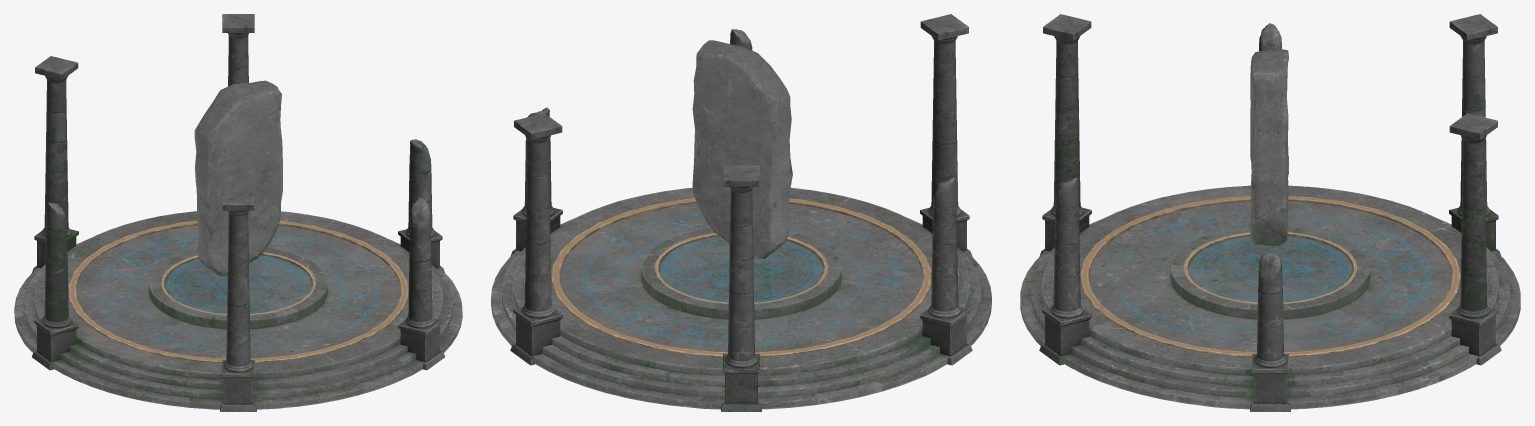
File: PRP_Waypoint_Gen.glb
3 views of the same model, side by side, from view 1: azimuth 30°, elevation 25°; view 2: azimuth 150°, elevation 25°; view 3: azimuth 270°, elevation 25° (orthographic). The views are drawn at different scales.
Parts seen in each view (by area): view 1: stone_platform_0, top_pillars_0; view 2: stone_platform_0, top_pillars_0; view 3: stone_platform_0, top_pillars_0.
Boxes of the visible parts, left/top/right/bottom form: stone_platform_0: left=14, top=80, right=462, bottom=409; top_pillars_0: left=32, top=14, right=444, bottom=411; stone_platform_0: left=491, top=40, right=991, bottom=409; top_pillars_0: left=510, top=14, right=972, bottom=411; stone_platform_0: left=1020, top=49, right=1520, bottom=409; top_pillars_0: left=1039, top=14, right=1501, bottom=411.
Bounding box in the file's own units: 11.2 × 6.11 × 10.98.
2 materials, 2 textured.
